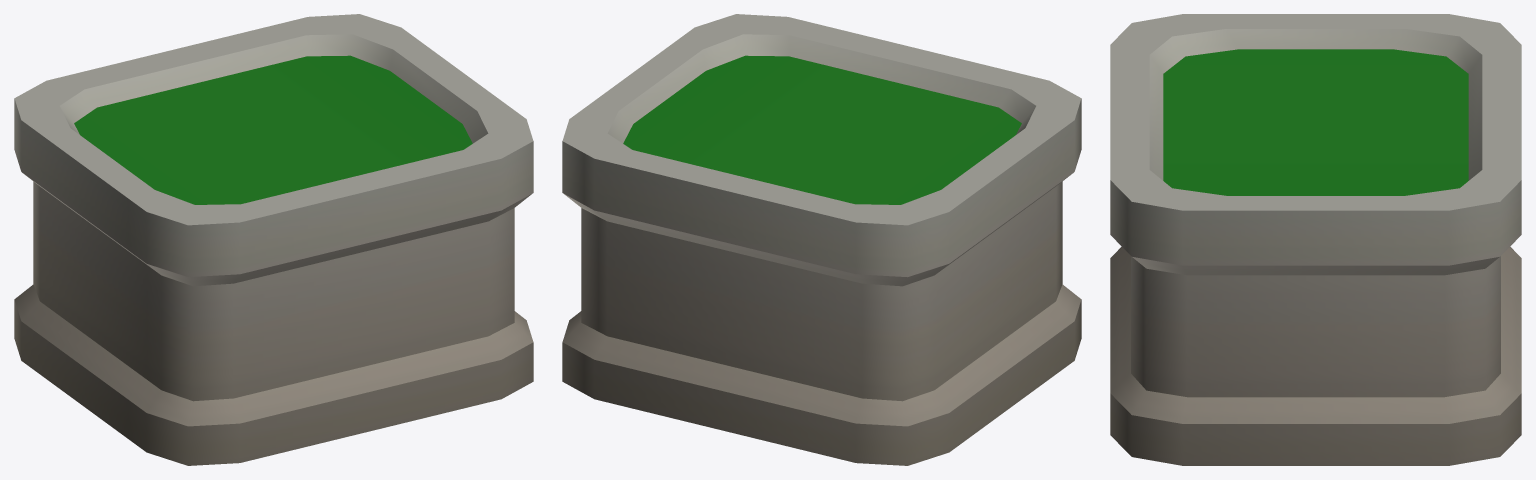
The model's file is FlowerPlacet_5_2_B.fbx.
3 views of the same model, side by side, from view 1: azimuth 30°, elevation 25°; view 2: azimuth 150°, elevation 25°; view 3: azimuth 270°, elevation 25° (orthographic). The views are drawn at different scales.
Visible parts, largest first — view 1: FlowerPlacet_5_2_B; view 2: FlowerPlacet_5_2_B; view 3: FlowerPlacet_5_2_B.
Boxes of the visible parts, x1=… form: FlowerPlacet_5_2_B: x1=14, y1=14, x2=533, y2=465; FlowerPlacet_5_2_B: x1=562, y1=14, x2=1081, y2=465; FlowerPlacet_5_2_B: x1=1110, y1=14, x2=1521, y2=465.
Bounding box in the file's own units: 143 × 86.38 × 126.
